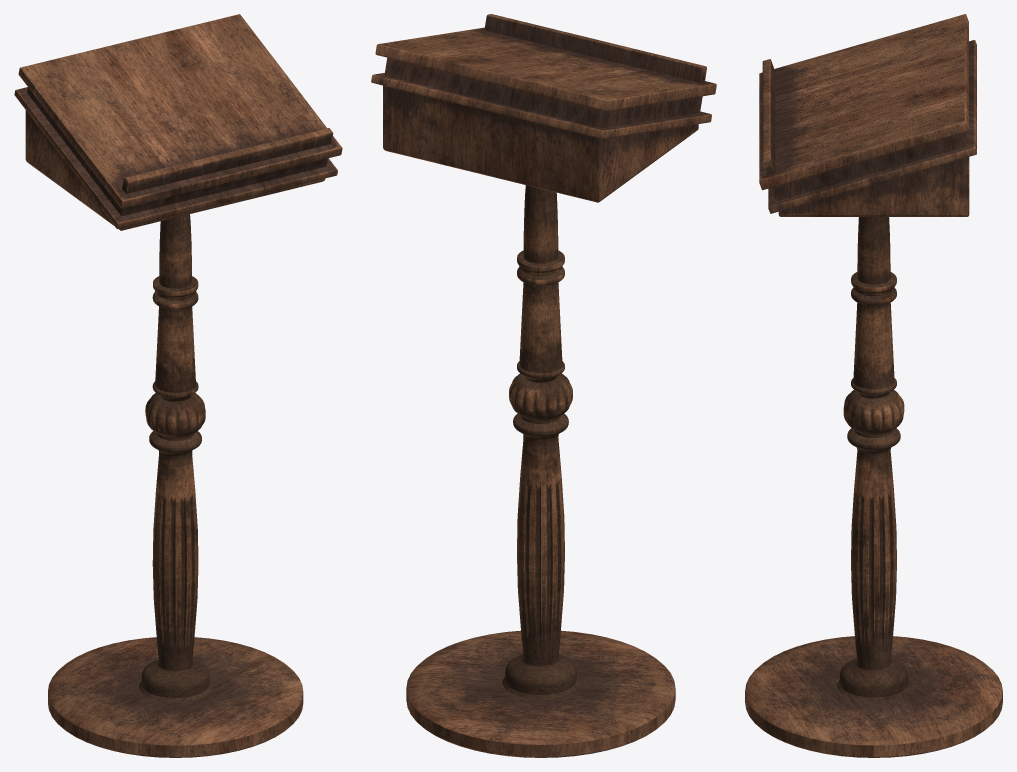
File: stand.glb
3 views of the same model, side by side, from view 1: azimuth 30°, elevation 25°; view 2: azimuth 150°, elevation 25°; view 3: azimuth 270°, elevation 25° (orthographic). The views are drawn at different scales.
Bounding box in the file's own units: 0.56 × 1.53 × 0.56.
1 material, 1 textured.
